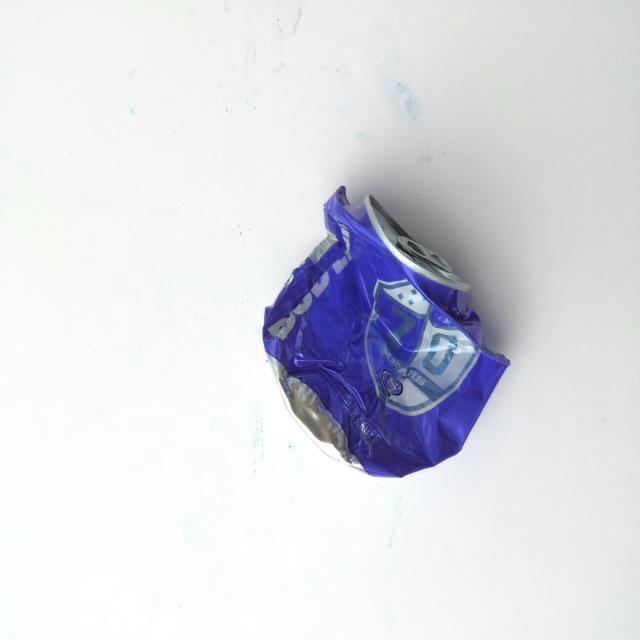metal: (255, 174, 522, 498)
